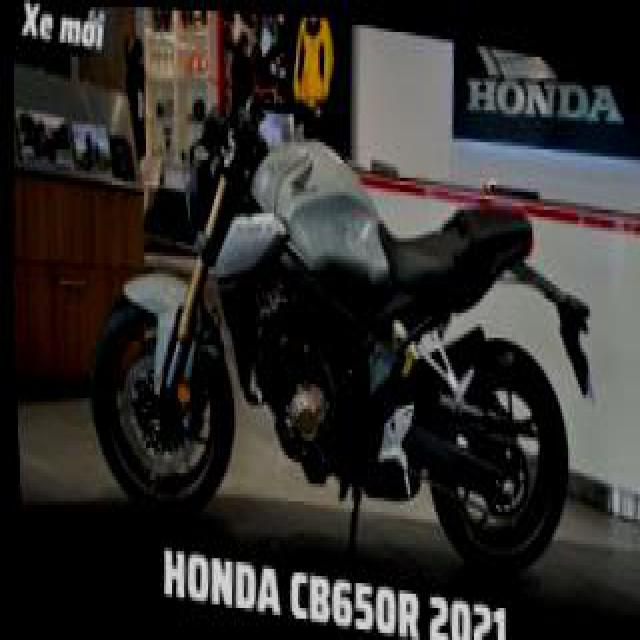CB650R: (70, 85, 582, 590)
